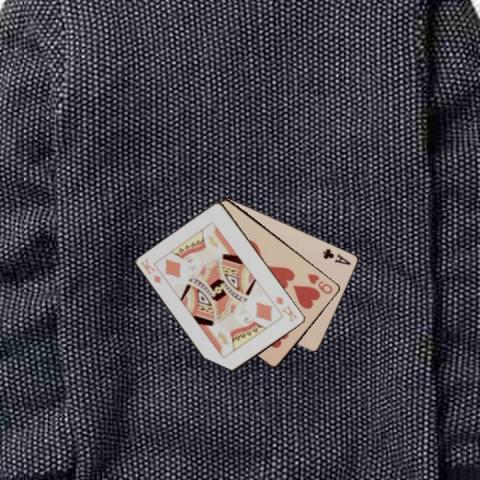9h: (304, 271, 334, 295)
Ac: (320, 245, 353, 267)
Kd: (274, 293, 300, 324), (138, 255, 163, 285)
